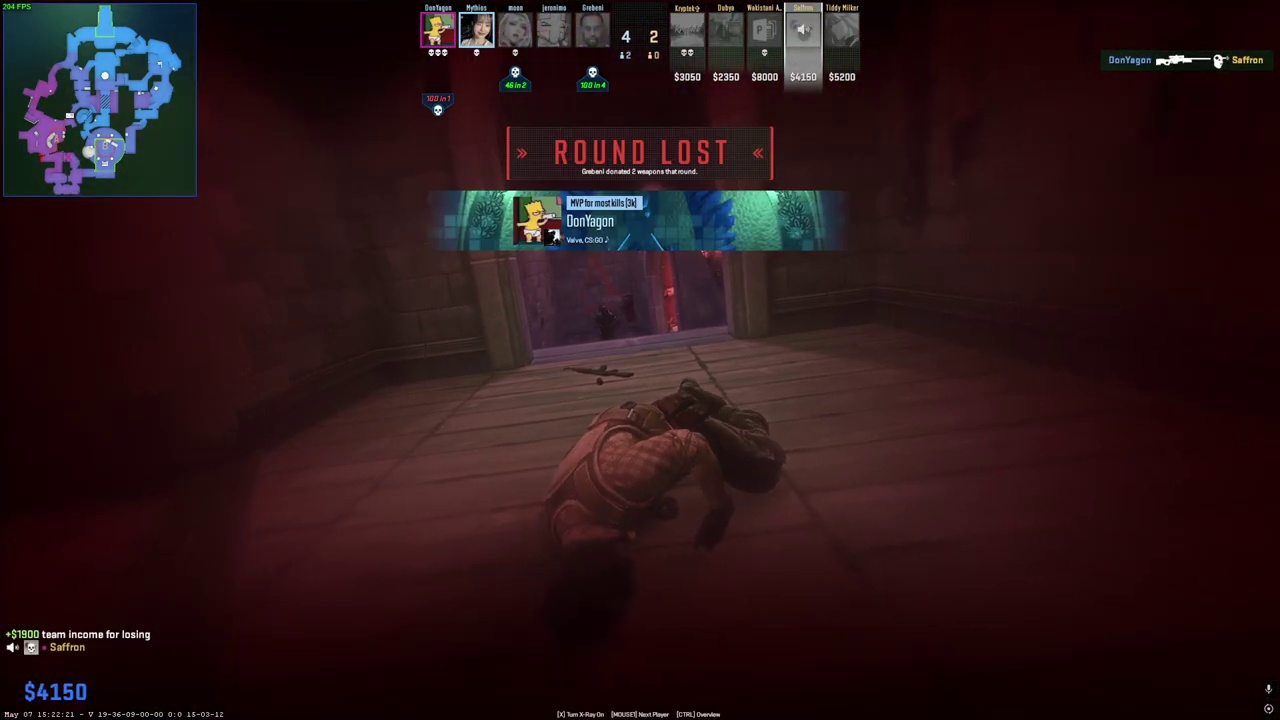CT: (594, 305, 616, 340)
